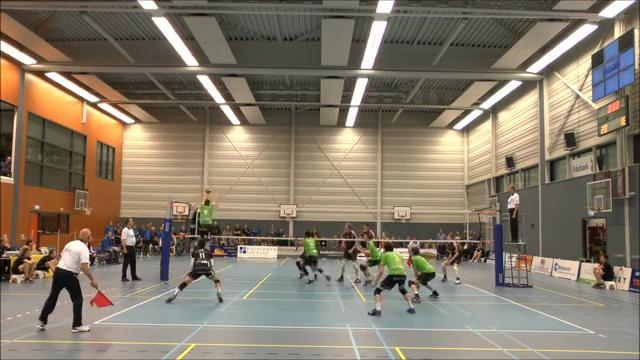Block: (195, 185, 216, 246)
Player: (166, 239, 222, 302), (368, 242, 414, 315), (299, 230, 330, 283), (409, 247, 438, 302), (337, 223, 359, 282), (358, 232, 380, 285), (442, 241, 461, 284), (360, 224, 375, 238)
ball: (204, 185, 213, 197)
